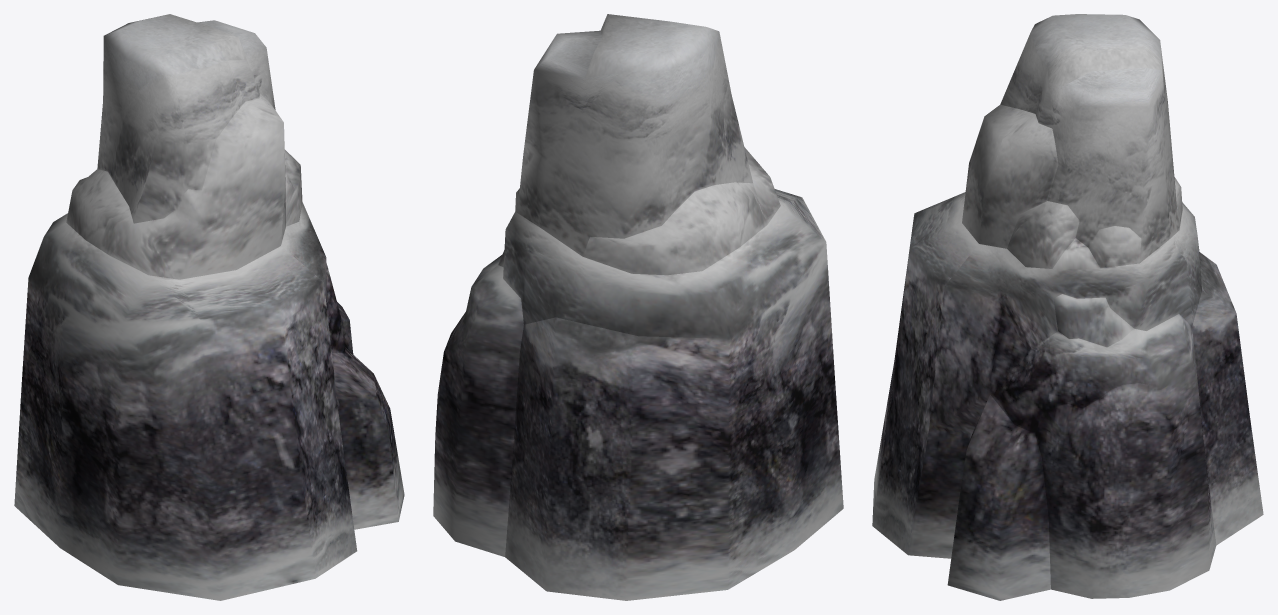
The model's file is snow_d_a02b.fbx.
3 renders of one model, left to right at view 1: azimuth 30°, elevation 25°; view 2: azimuth 150°, elevation 25°; view 3: azimuth 270°, elevation 25°, orthographic. The views are drawn at different scales.
Parts seen in each view (by area): view 1: d_a02b; view 2: d_a02b; view 3: d_a02b.
Boxes of the visible parts, left/top/right/bottom form: d_a02b: left=14, top=14, right=404, bottom=600; d_a02b: left=433, top=14, right=843, bottom=600; d_a02b: left=872, top=14, right=1263, bottom=600.
Bounding box in the file's own units: 1269 × 1836 × 1366.
